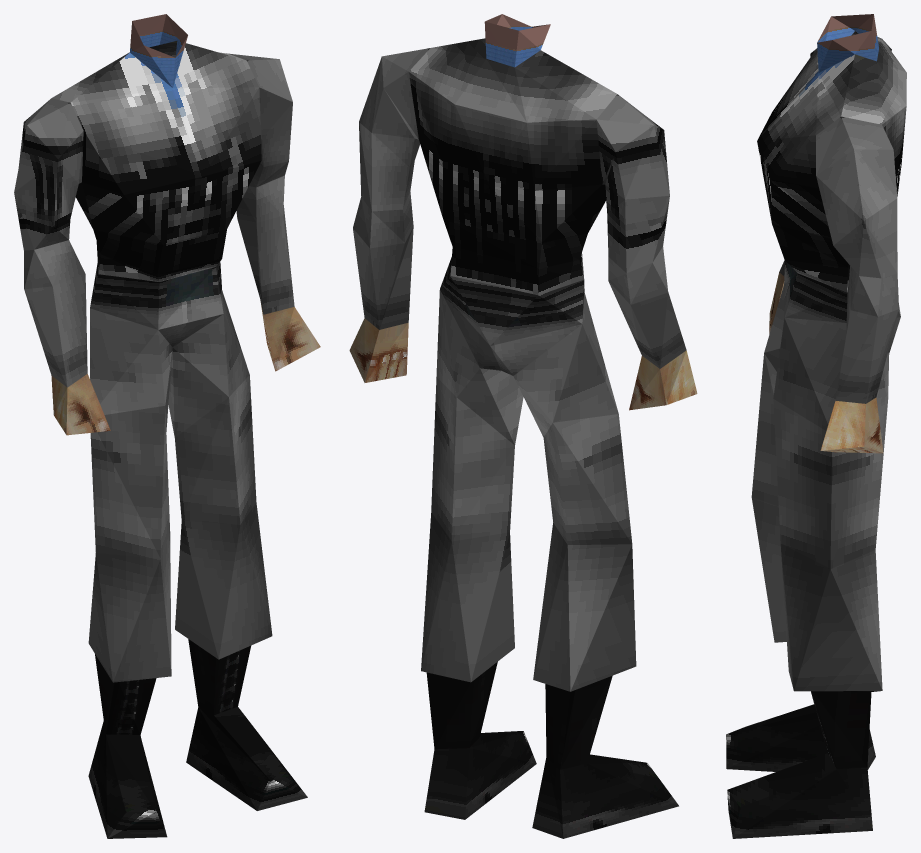
The model's file is primary_005.glb.
3 renders of one model, left to right at view 1: azimuth 30°, elevation 25°; view 2: azimuth 150°, elevation 25°; view 3: azimuth 270°, elevation 25°, orthographic. The views are drawn at different scales.
Visible parts, largest first — view 1: Object; view 2: Object; view 3: Object.
Part boxes in pixels (box(x1,y1,x2,y2)): Object: box(14, 14, 320, 838); Object: box(349, 14, 697, 838); Object: box(726, 14, 906, 838).
Bounding box in the file's own units: 0.7423 × 1.83 × 0.3869.
69 materials, 69 textured.
